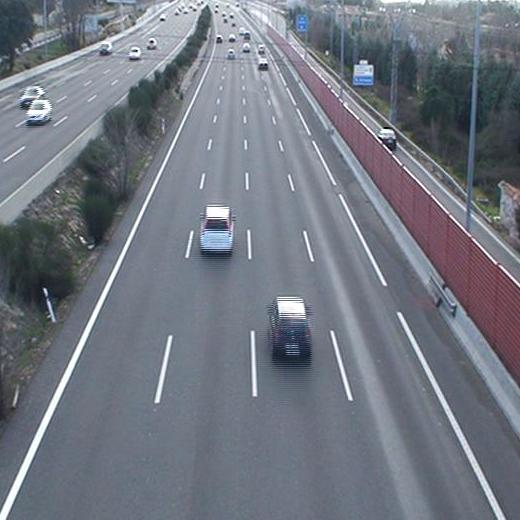car: (265, 297, 312, 361), (198, 205, 234, 255), (257, 57, 268, 72)
